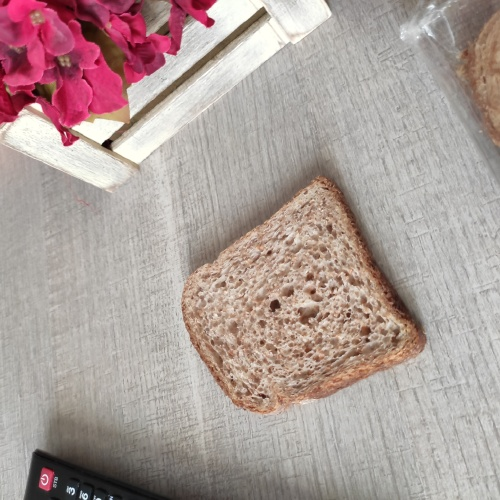pane: (176, 167, 430, 418)
